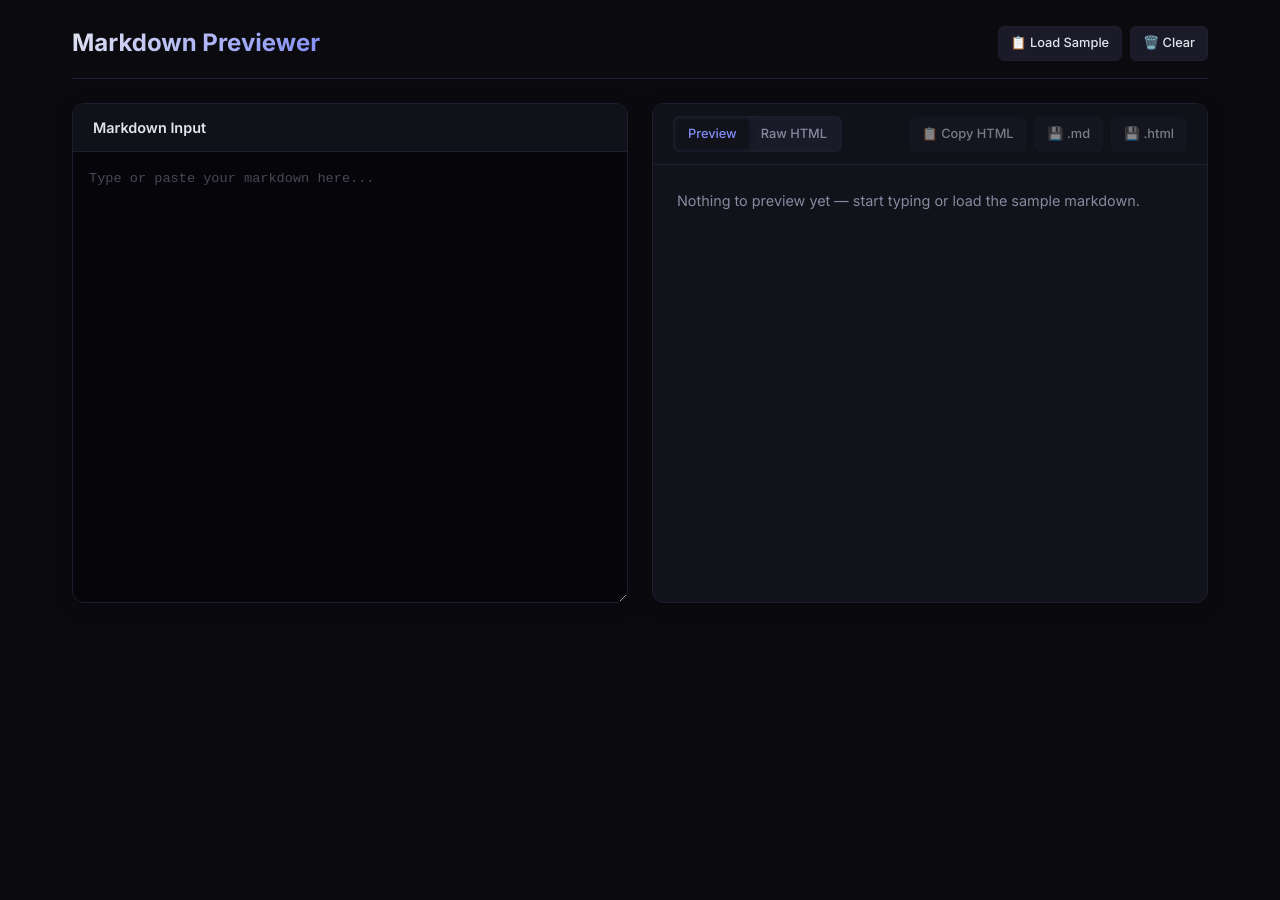
Test: MarkdownTool actions › loads sample markdown and renders it in the preview
Click the button with aria-label "Load sample markdown" at (1060, 43), box [998, 26, 1122, 61]
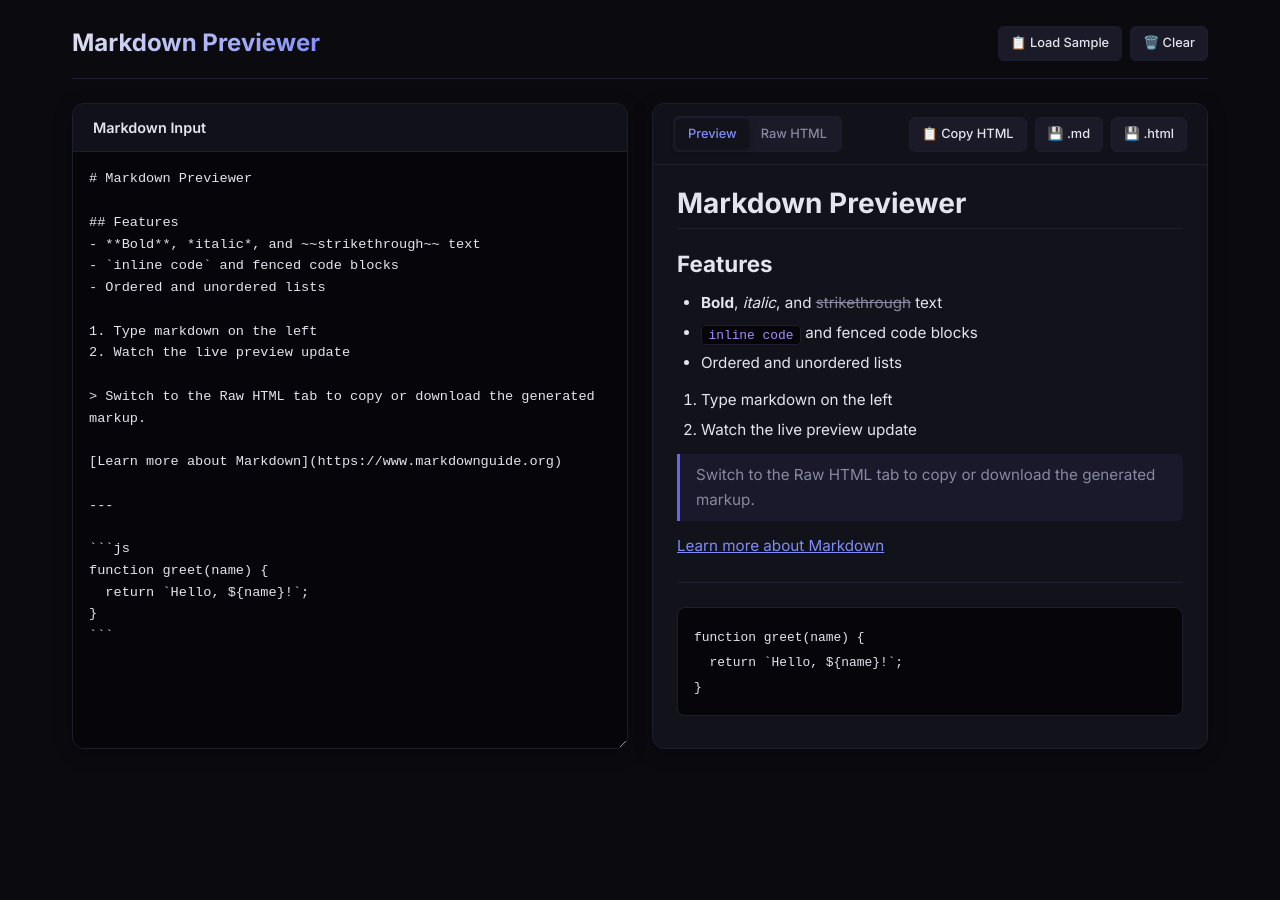
Expected: the 2nd heading "Markdown Previewer" is shown, [677, 186, 1183, 229]
